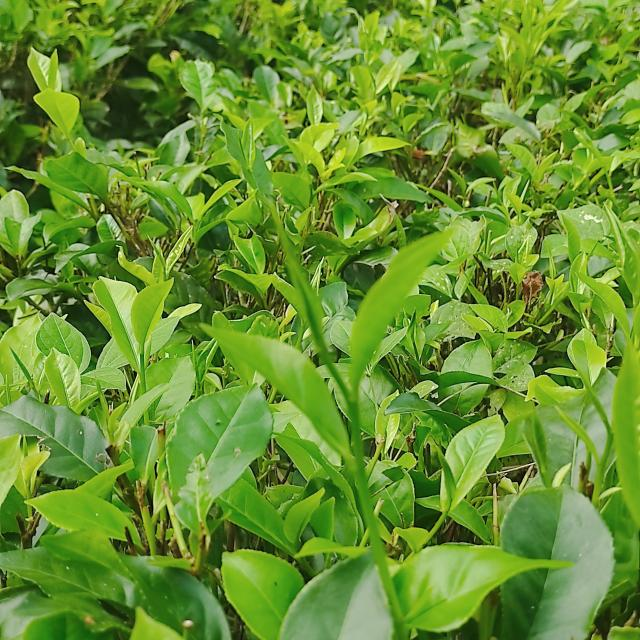unopened_leaf: (257, 192, 355, 408), (552, 403, 606, 472), (572, 368, 618, 440), (426, 432, 462, 513), (4, 338, 41, 396), (94, 375, 112, 418), (583, 235, 606, 262), (132, 145, 146, 180), (501, 239, 521, 263), (512, 242, 528, 267)
